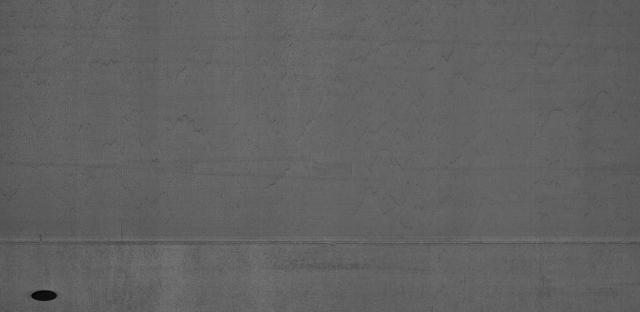punching_hole: (26, 283, 65, 306)
silk_spot: (14, 5, 629, 197)
welding_line: (0, 231, 638, 252)
